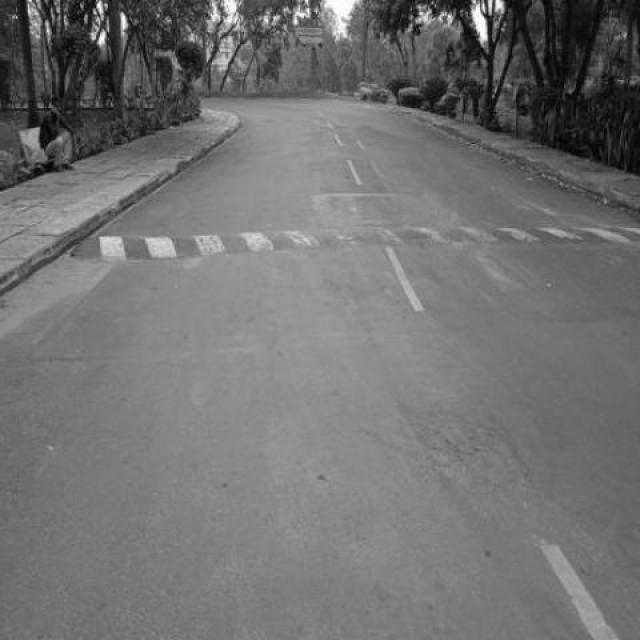Speed Bump: (70, 222, 640, 272)
